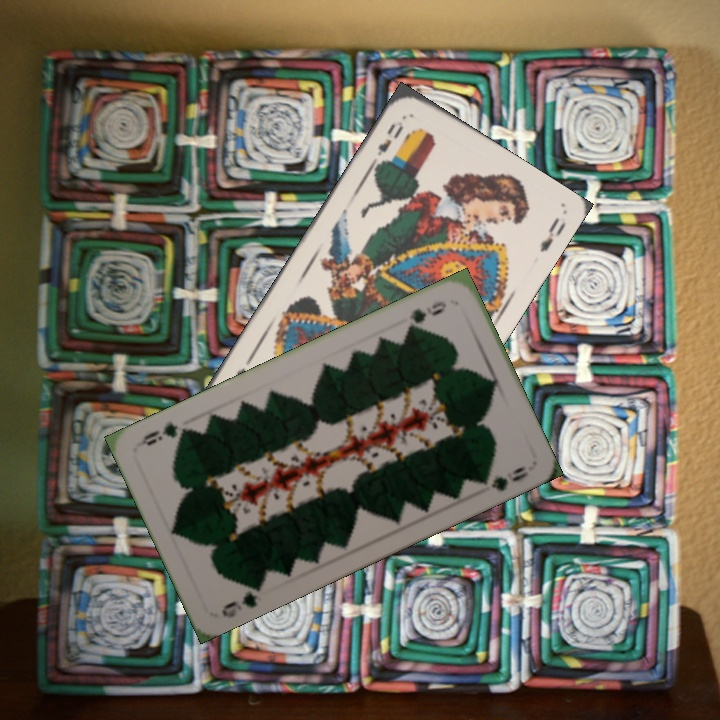EO: (373, 117, 406, 168)
G9: (217, 578, 266, 621), (402, 297, 449, 333)
